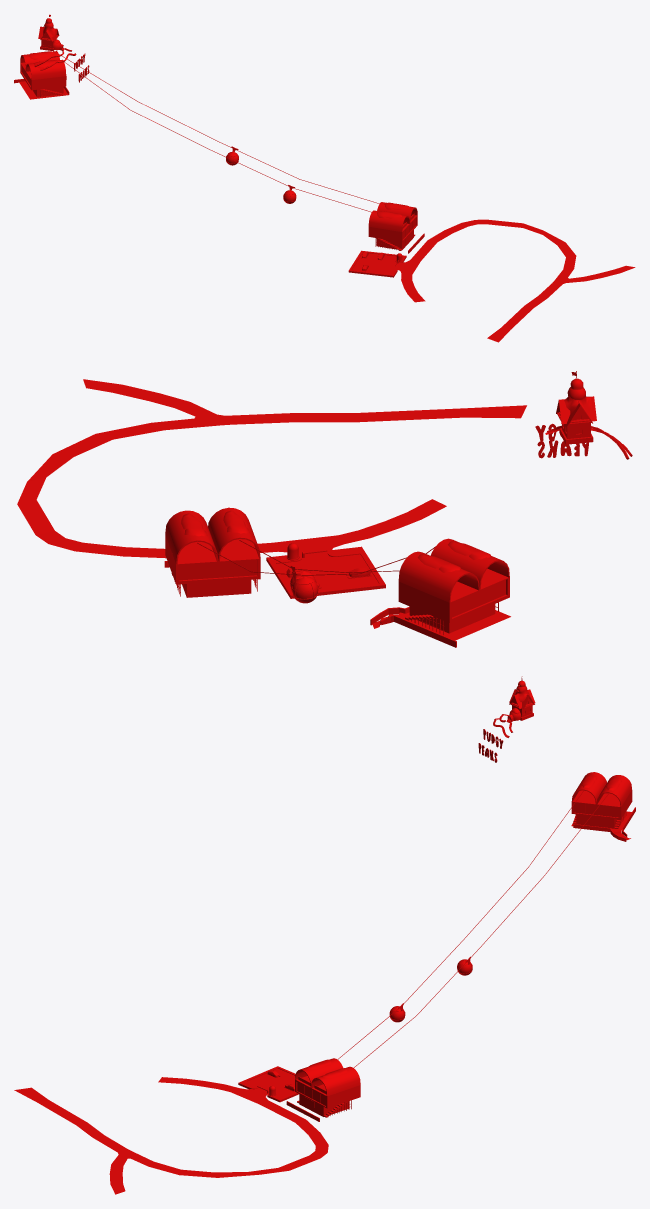
Rendered from Neighborhood_PudgyPeaks_02.glb.
3 renders of one model, top to bottom at view 1: azimuth 30°, elevation 25°; view 2: azimuth 150°, elevation 25°; view 3: azimuth 270°, elevation 25°, orthographic. The views are drawn at different scales.
Visible parts, largest first — view 1: PudgyPeaks_Road, Building_Gloondola_Top, Building_Gloondola_Top_node, Cable, Building_PeaksHouse; view 2: PudgyPeaks_Road, Building_Gloondola_Top, Building_Gloondola_Top_node, Building_PeaksHouse, Building_Parking, Object_PudgyPeaksSign, Building_CableCar1, Cable; view 3: PudgyPeaks_Road, Building_Gloondola_Top, Building_Gloondola_Top_node, Building_PeaksHouse, Cable.
Part boxes in pixels (left/top/right/bottom): PudgyPeaks_Road: left=352, top=219, right=635, bottom=342; Building_Gloondola_Top: left=14, top=51, right=69, bottom=99; Building_Gloondola_Top_node: left=368, top=202, right=417, bottom=250; Cable: left=59, top=54, right=379, bottom=212; Building_PeaksHouse: left=38, top=14, right=63, bottom=51; PudgyPeaks_Road: left=17, top=379, right=526, bottom=590; Building_Gloondola_Top: left=370, top=538, right=510, bottom=647; Building_Gloondola_Top_node: left=165, top=507, right=260, bottom=597; Building_PeaksHouse: left=556, top=371, right=596, bottom=444; Building_Parking: left=266, top=546, right=385, bottom=598; Object_PudgyPeaksSign: left=535, top=423, right=588, bottom=458; Building_CableCar1: left=291, top=571, right=318, bottom=603; Cable: left=197, top=540, right=435, bottom=575; PudgyPeaks_Road: left=14, top=1068, right=328, bottom=1194; Building_Gloondola_Top: left=571, top=772, right=635, bottom=841; Building_Gloondola_Top_node: left=295, top=1058, right=360, bottom=1117; Building_PeaksHouse: left=507, top=676, right=535, bottom=721; Cable: left=337, top=790, right=608, bottom=1067.
Size of the model in its own units: 102 by 51.69 by 105.
